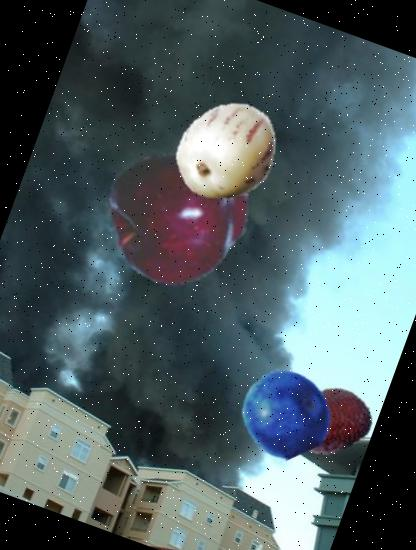Apple: (89, 124, 272, 307)
Huckleberry: (229, 357, 341, 469)
Pepino: (160, 86, 291, 217)
Salak: (279, 369, 382, 472)
